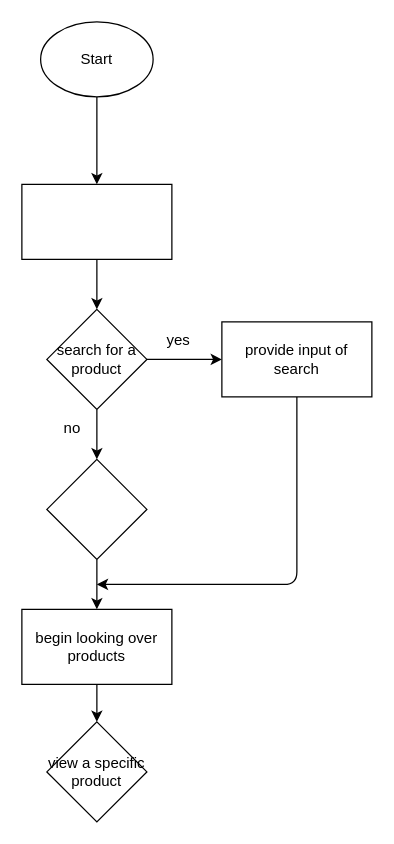
This 394x844 diagram has some shape labels left out. Each missing label, with the centre of its shape:
explore products: [96,508]
User enters website: [96,221]
